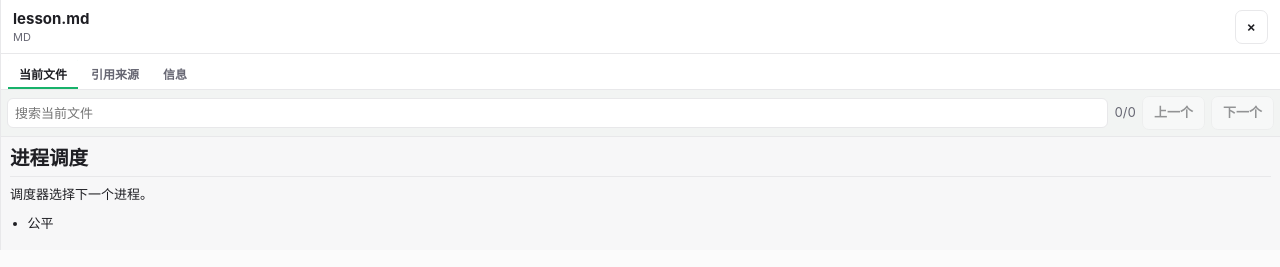
Test: FilePreview › highlights visible Markdown matches without exposing source syntax
Type "调度" into the search field with placeholder "搜索当前文件" at (558, 113), box [7,98,1108,128]
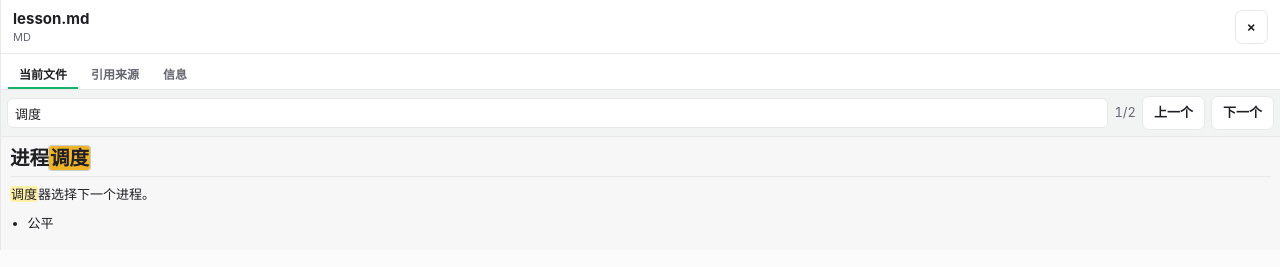
Check: the 1st text "调度" is shown, box [49,146,90,170]
Check: the text "1/2" is shown, box [1114,103,1136,123]
